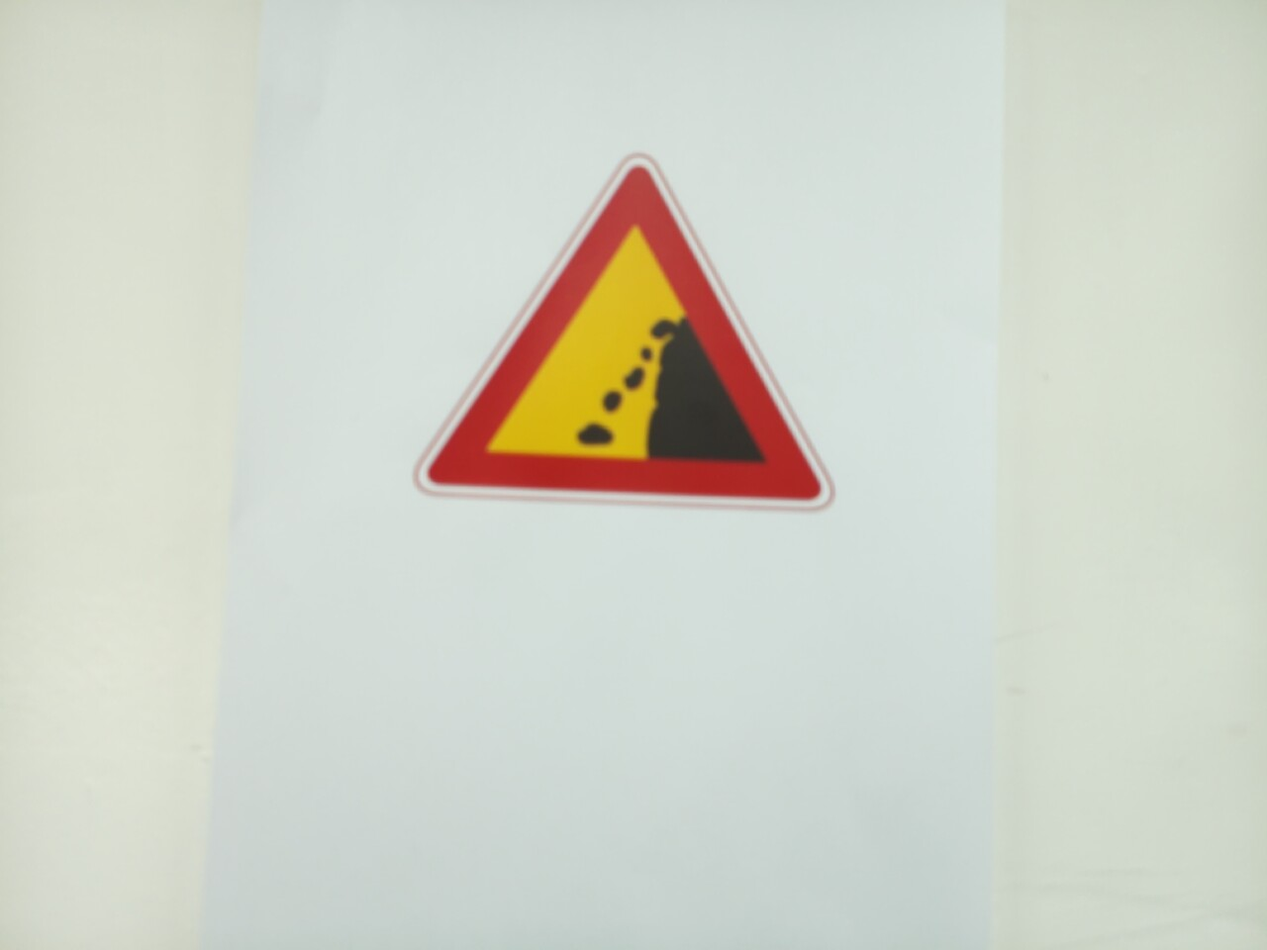falling_rocks: (416, 156, 832, 511)
